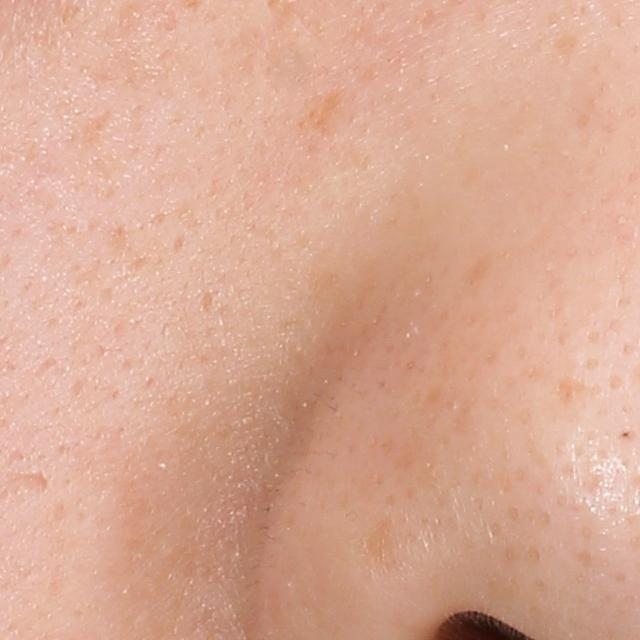atrophic_scar: (10, 468, 51, 499)
melasma: (300, 82, 353, 137), (553, 24, 585, 62)
